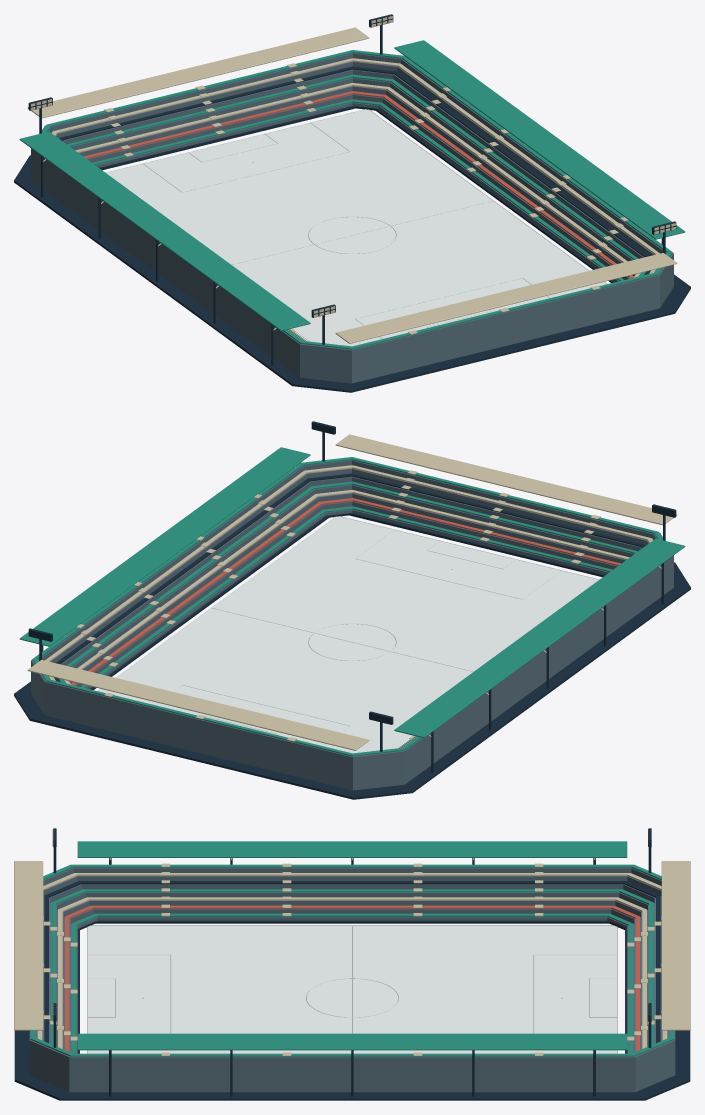
Rendered from soccer-stadium.glb.
3 views of the same model, one above another, from view 1: azimuth 30°, elevation 25°; view 2: azimuth 150°, elevation 25°; view 3: azimuth 270°, elevation 25° (orthographic). The views are drawn at different scales.
Visible parts, largest first — view 1: pitch_surface, stand_shell, roof, seating, field_markings, aisles, beams, floodlights; view 2: pitch_surface, stand_shell, roof, seating, field_markings, aisles, beams, floodlights; view 3: stand_shell, pitch_surface, roof, seating, aisles, field_markings, beams.
Part boxes in pixels (x1,y1,x2,y2): pitch_surface: (106,109,606,346); stand_shell: (14,53,690,392); roof: (19,27,685,343); seating: (42,50,672,349); field_markings: (105,109,606,341); aisles: (104,63,628,334); beams: (39,25,665,365); floodlights: (28,14,676,317); pitch_surface: (98,516,598,753); stand_shell: (14,460,690,799); roof: (19,434,685,750); seating: (32,457,662,756); field_markings: (98,516,599,748); aisles: (76,470,600,741); beams: (39,432,665,772); floodlights: (28,421,676,724); stand_shell: (14,867,690,1100); pitch_surface: (88,926,616,1053); roof: (14,841,690,1050); seating: (30,864,674,1056); aisles: (43,863,661,1055); field_markings: (87,925,617,1053); beams: (53,847,651,1096).
Bounding box in the file's own units: 97.4 × 16.85 × 134.
